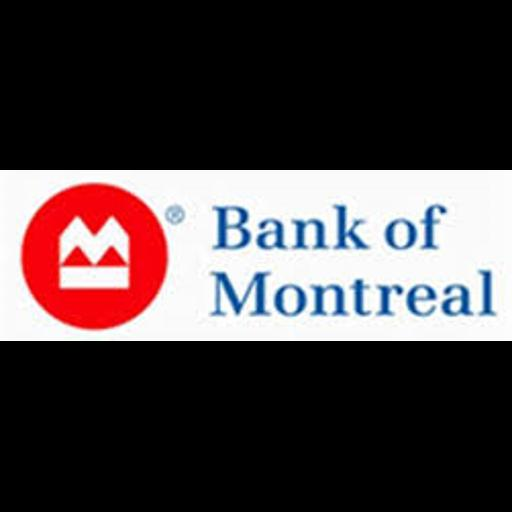Bank of Montreal: (0, 170, 512, 341)
